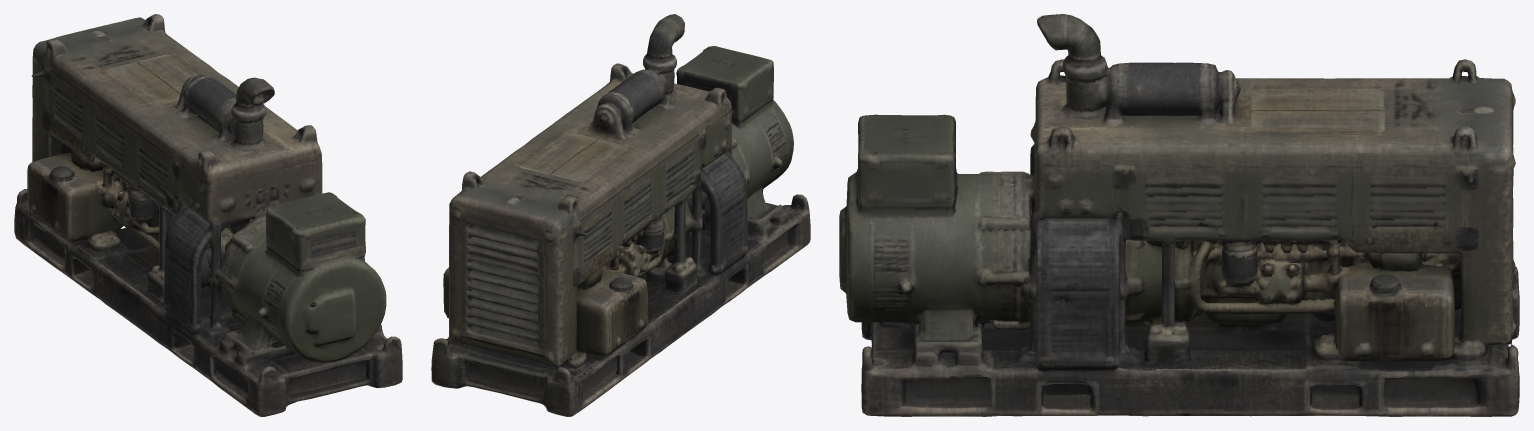
File: raw.glb
3 renders of one model, left to right at view 1: azimuth 30°, elevation 25°; view 2: azimuth 150°, elevation 25°; view 3: azimuth 270°, elevation 25°, orthographic. The views are drawn at different scales.
Size of the model in its own units: 0.4035 by 0.583 by 1.01.
1 material, 1 textured.
